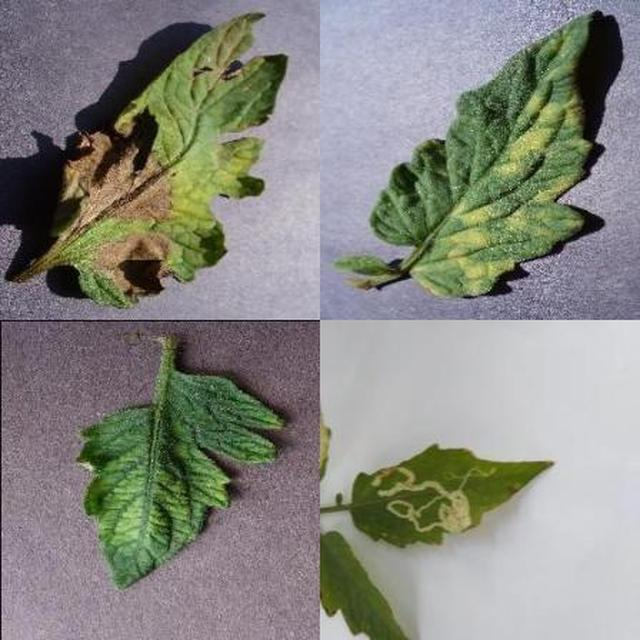Late Blight Leaf: (246, 147, 640, 640)
